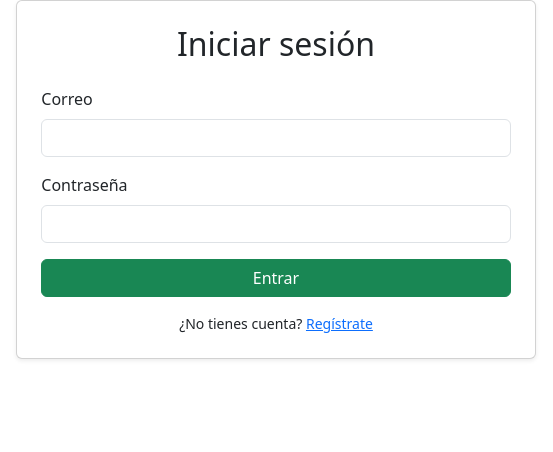
Test: Componente Login › muestra un aviso si las credenciales son incorrectas
The width and height of the screenshot is (553, 452).
In the field labelled "Correo": x=276, y=138 [41,119,511,157], type "admin@deliciasdelsur.cl"
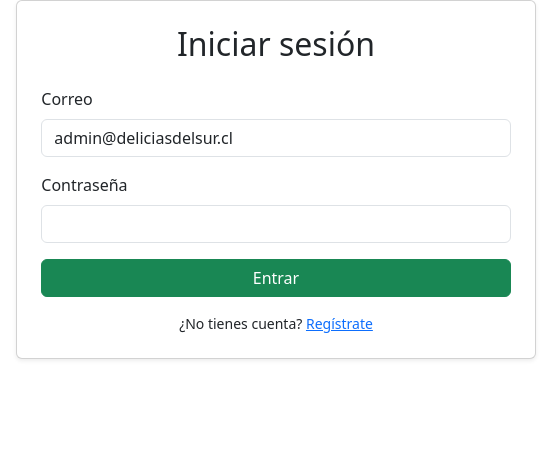
In the password field labelled "Contraseña": x=276, y=224 [41,205,511,243], type "clave-equivocada"
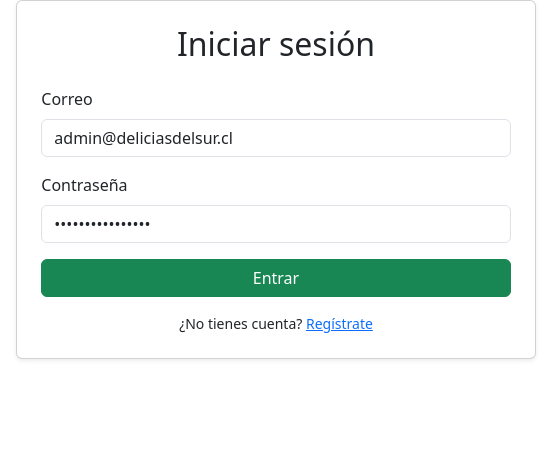
Click the button "Entrar": x=276, y=278 [41,259,511,297]
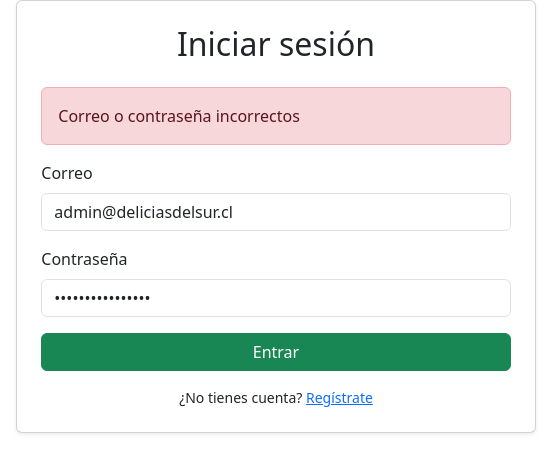
Expected: the text "Correo o contraseña incorrectos" is shown, [41,87,511,145]
